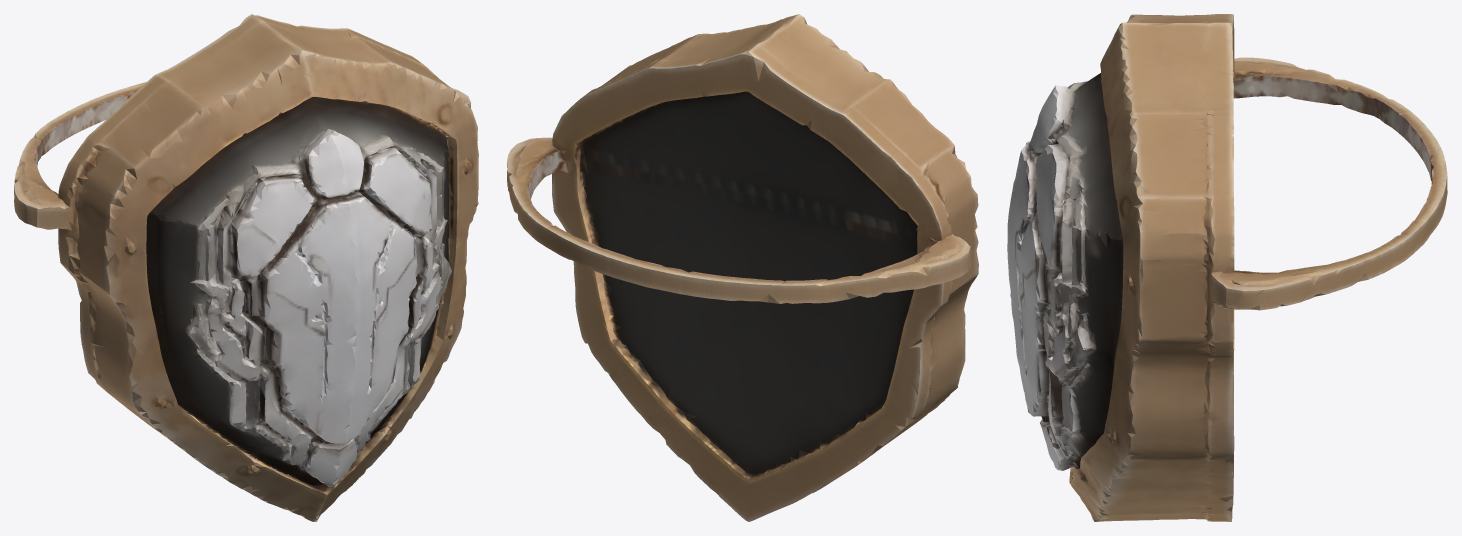
The model's file is titan_shield.glb.
3 renders of one model, left to right at view 1: azimuth 30°, elevation 25°; view 2: azimuth 150°, elevation 25°; view 3: azimuth 270°, elevation 25°, orthographic. The views are drawn at different scales.
Parts seen in each view (by area): view 1: titan_shield; view 2: titan_shield; view 3: titan_shield.
Boxes of the visible parts, <box> form: titan_shield: <box>14,14,478,521</box>; titan_shield: <box>507,14,978,521</box>; titan_shield: <box>1007,14,1447,521</box>.
Bounding box in the file's own units: 1.9 × 1.89 × 1.51.
Materials: 1 (1 with a texture image).
